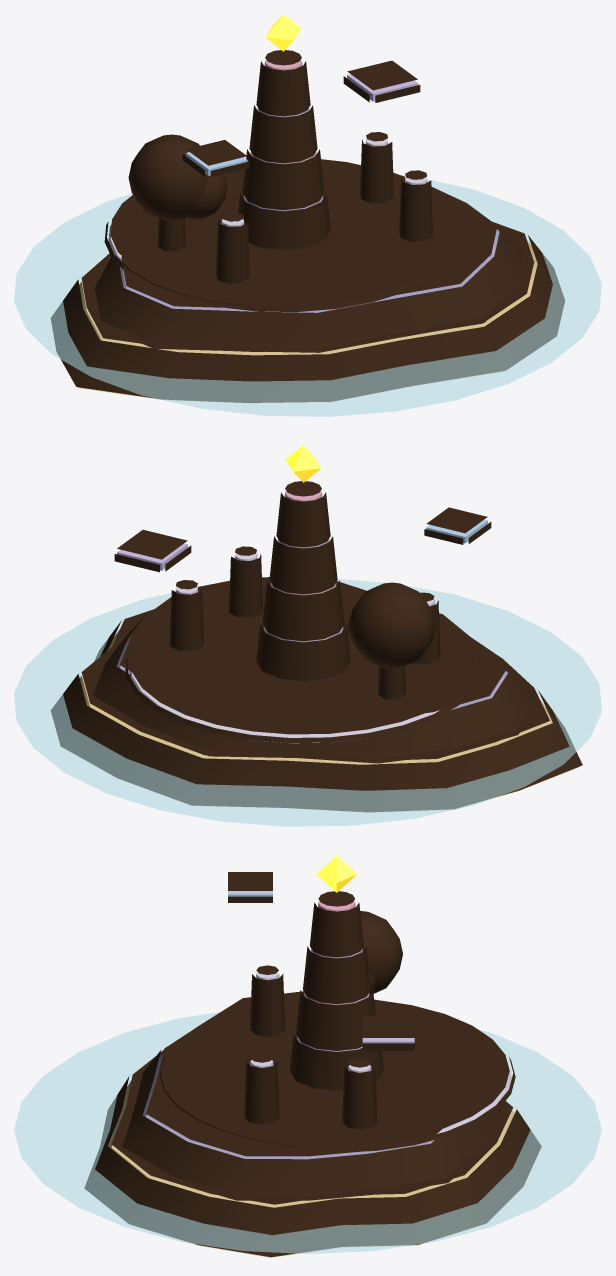
File: island-tower.glb
The picture shows the model from 3 angles, top to bottom: view 1: azimuth 30°, elevation 25°; view 2: azimuth 150°, elevation 25°; view 3: azimuth 270°, elevation 25°; orthographic projection.
Visible parts, largest first — view 1: outline (×15), Group (×2); view 2: outline (×14), Group (×3); view 3: outline (×13), Group (×2).
Part boxes in pixels (x1,y1,x2,y2): outline (×15): [50, 50, 564, 402]; Group (×2): [14, 14, 601, 416]; outline (×14): [51, 481, 582, 812]; Group (×3): [14, 445, 601, 826]; outline (×13): [84, 872, 541, 1257]; Group (×2): [14, 855, 601, 1257].
Bounding box in the file's own units: 5.1 × 2.8 × 5.1.
